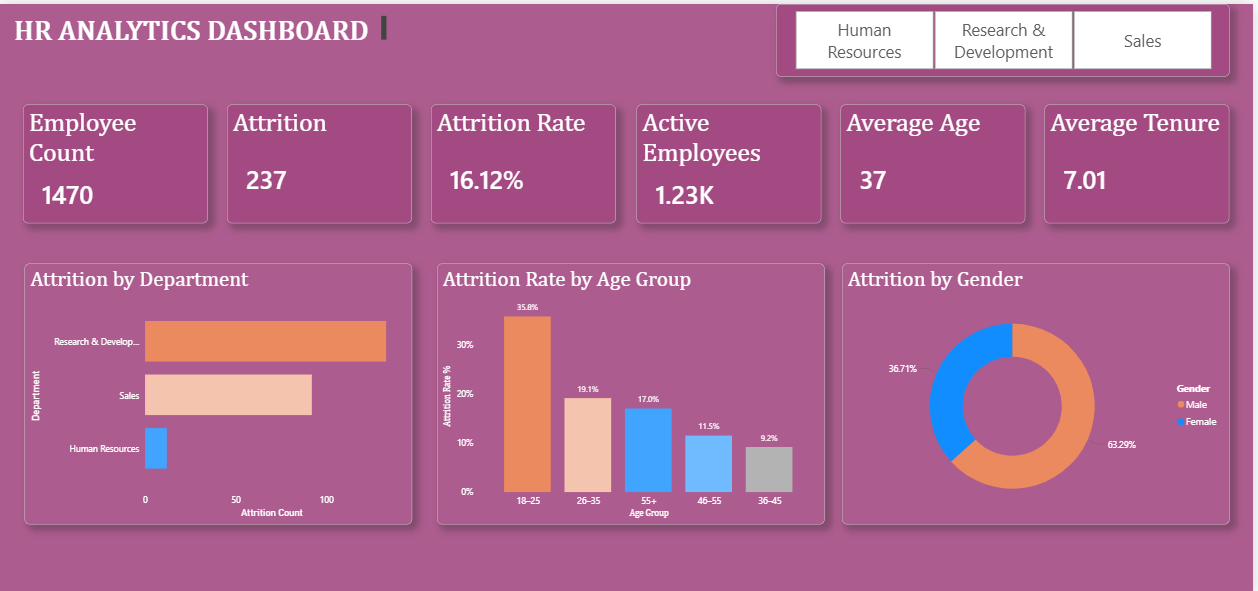

Layout of this report page (visuals, bound fields, positions):
{"tool":"powerbi","page":{"name":"HR Analytics Dashboard","canvas":[1900,900],"ordinal":0},"visuals":[{"type":"textbox","box":[10,0,592,72],"z":0},{"type":"cardVisual","title":"Employee Count","fields":{"Data":["HR-Employee-Attrition.Total No. of Employees"]},"box":[36.7,153.3,280,180],"z":1000},{"type":"cardVisual","title":"Attrition","fields":{"Data":["HR-Employee-Attrition.Attrition Count"]},"box":[346.2,153.3,280,180],"z":2000},{"type":"cardVisual","title":"Attrition Rate","fields":{"Data":["HR-Employee-Attrition.Attrition Rate %"]},"box":[655.7,153.3,280,180],"z":3000},{"type":"cardVisual","title":"Active Employees","fields":{"Data":["HR-Employee-Attrition.Active Employees"]},"box":[965.2,153.3,280,180],"z":4000},{"type":"cardVisual","title":"Average Age","fields":{"Data":["HR-Employee-Attrition.Average Age"]},"box":[1274.7,153.3,280,180],"z":5000},{"type":"cardVisual","title":"Average Tenure","fields":{"Data":["HR-Employee-Attrition.Average Tenure"]},"box":[1584.2,153.3,280,180],"z":6000},{"type":"slicer","fields":{"Values":["HR-Employee-Attrition.Department"]},"box":[1177.5,0,687.5,110],"z":7000},{"type":"clusteredBarChart","title":"Attrition by Department","fields":{"Category":["HR-Employee-Attrition.Department"],"Y":["HR-Employee-Attrition.Attrition Count"]},"box":[37.5,392.5,587.5,395],"z":8000},{"type":"donutChart","title":"Attrition by Gender","fields":{"Category":["HR-Employee-Attrition.Gender"],"Y":["HR-Employee-Attrition.Attrition Count"]},"box":[1277.5,392.5,587.5,395],"z":9000},{"type":"clusteredColumnChart","title":"Attrition Rate by Age Group","fields":{"Y":["HR-Employee-Attrition.Attrition Rate %"],"Category":["HR-Employee-Attrition.Age Group"]},"box":[662.5,392.5,587,395],"z":10000}]}

Visuals, with their boxes in screenshot pixels (x1, y1, x2, y2), scaled from the page's 1900x900 canvas onto the 1258x591 screenshot:
textbox: bbox=[7, 0, 399, 47]
"Employee Count" cardVisual: bbox=[24, 101, 210, 219]
"Attrition" cardVisual: bbox=[229, 101, 415, 219]
"Attrition Rate" cardVisual: bbox=[434, 101, 620, 219]
"Active Employees" cardVisual: bbox=[639, 101, 824, 219]
"Average Age" cardVisual: bbox=[844, 101, 1029, 219]
"Average Tenure" cardVisual: bbox=[1049, 101, 1234, 219]
slicer - HR-Employee-Attrition.Department: bbox=[780, 0, 1235, 72]
"Attrition by Department" clusteredBarChart: bbox=[25, 258, 414, 517]
"Attrition by Gender" donutChart: bbox=[846, 258, 1235, 517]
"Attrition Rate by Age Group" clusteredColumnChart: bbox=[439, 258, 827, 517]
